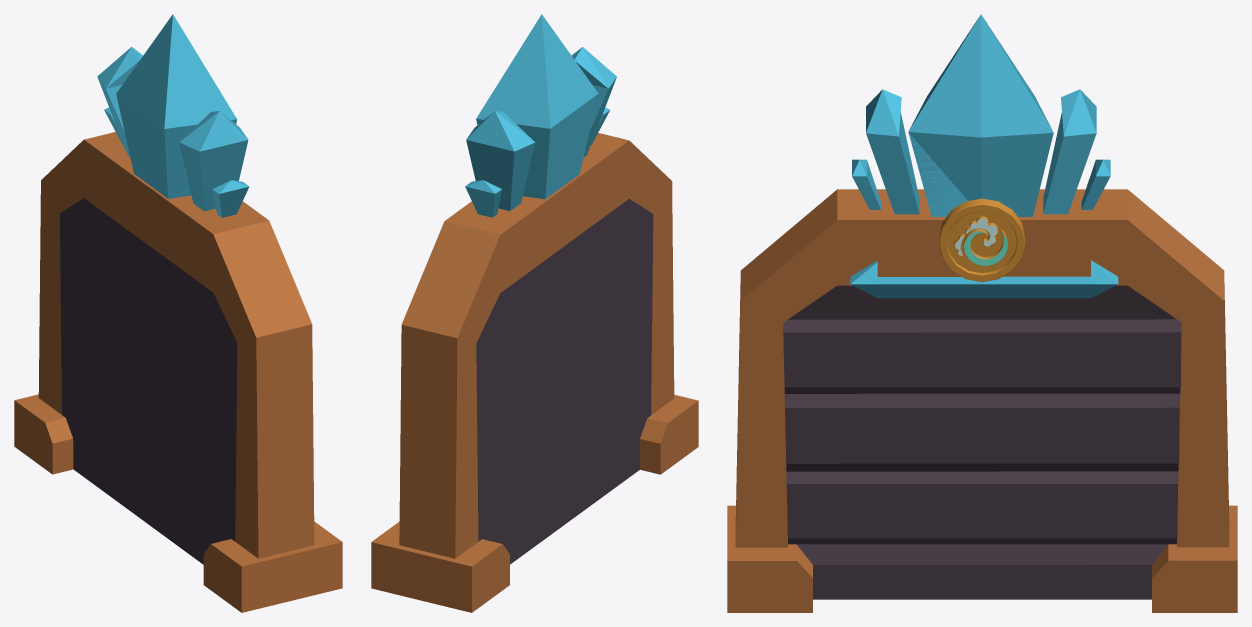
Rendered from Gate.fbx.
The picture shows the model from 3 angles, left to right: view 1: azimuth 30°, elevation 25°; view 2: azimuth 150°, elevation 25°; view 3: azimuth 270°, elevation 25°; orthographic projection. The views are drawn at different scales.
Visible parts, largest first — view 1: Border, Door; view 2: Border, Door; view 3: Door, Border, Coin.
Boxes of the visible parts, bbox=[...] form: Border: bbox=[14, 14, 342, 612]; Door: bbox=[59, 198, 237, 564]; Border: bbox=[371, 14, 698, 612]; Door: bbox=[476, 198, 653, 564]; Door: bbox=[783, 285, 1181, 599]; Border: bbox=[727, 14, 1237, 612]; Coin: bbox=[939, 198, 1025, 281].
Size of the model in its own units: 198 by 946 by 771.
